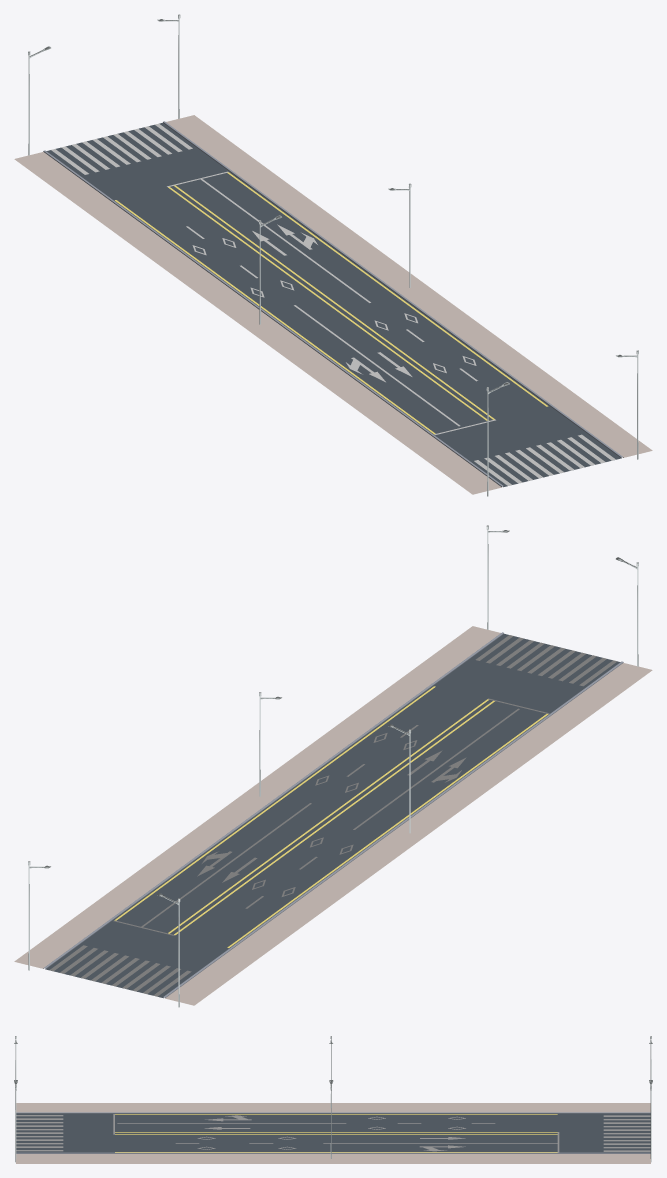
The model's file is road.obj.
3 views of the same model, one above another, from view 1: azimuth 30°, elevation 25°; view 2: azimuth 150°, elevation 25°; view 3: azimuth 270°, elevation 25° (orthographic). The views are drawn at different scales.
Parts seen in each view (by area): view 1: Road_001, Footway_001, Lane_White_001, Lane_Yellow_001, Curb_001, Street_Lamp_001; view 2: Road_001, Footway_001, Lane_White_001, Lane_Yellow_001, Curb_001, Street_Lamp_001; view 3: Road_001, Footway_001, Lane_White_001, Curb_001, Lane_Yellow_001, Street_Lamp_001.
Boxes of the visible parts, x1,y1,x2,y2 form: Road_001: [46, 122, 621, 487]; Footway_001: [14, 115, 652, 494]; Lane_White_001: [51, 123, 615, 485]; Lane_Yellow_001: [115, 172, 548, 434]; Curb_001: [43, 121, 623, 486]; Street_Lamp_001: [28, 14, 638, 496]; Road_001: [45, 633, 620, 998]; Footway_001: [14, 626, 652, 1005]; Lane_White_001: [49, 635, 616, 996]; Lane_Yellow_001: [114, 686, 548, 947]; Curb_001: [43, 632, 623, 997]; Street_Lamp_001: [28, 525, 638, 1007]; Road_001: [16, 1113, 650, 1152]; Footway_001: [16, 1103, 650, 1163]; Lane_White_001: [16, 1114, 650, 1152]; Curb_001: [16, 1112, 650, 1153]; Lane_Yellow_001: [115, 1114, 557, 1152]; Street_Lamp_001: [14, 1036, 652, 1162].
Size of the model in its own units: 18.24 by 10.55 by 80.85.
